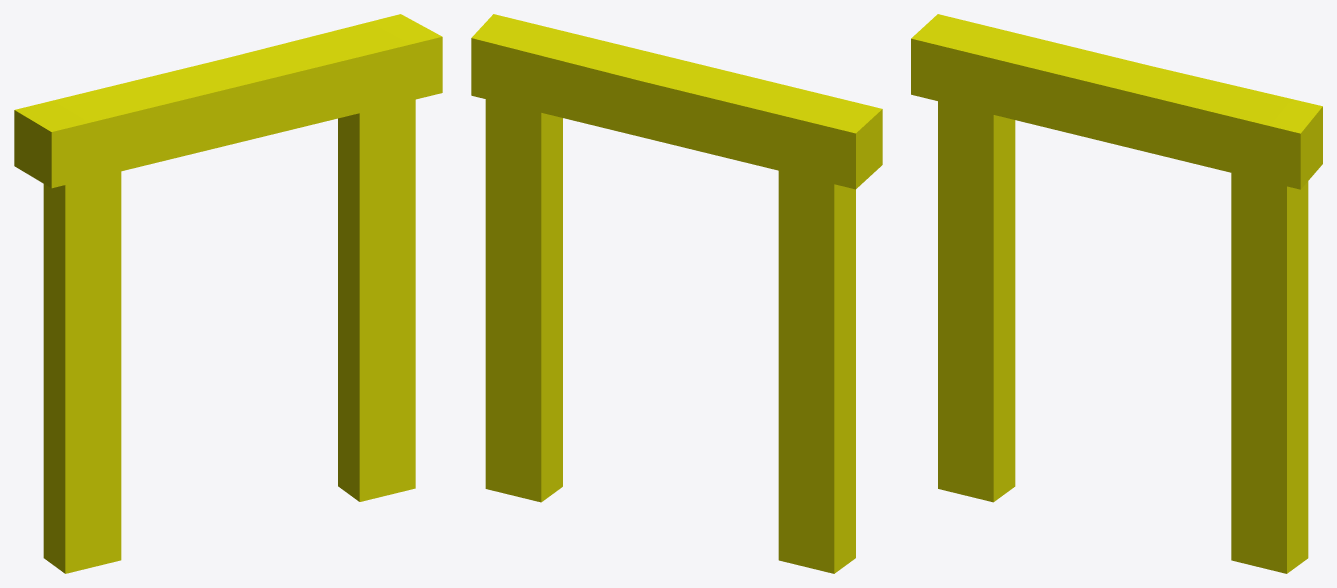
3 renders of one model, left to right at view 1: azimuth 30°, elevation 25°; view 2: azimuth 150°, elevation 25°; view 3: azimuth 330°, elevation 25°, orthographic.
Parts seen in each view (by area): view 1: khung; view 2: khung; view 3: khung.
Boxes of the visible parts, box(x1,y1,x2,y2) form: khung: box(14, 14, 442, 573); khung: box(471, 14, 882, 573); khung: box(911, 14, 1322, 573).
Size of the model in its own units: 2.34 by 2.56 by 0.3277.
1 material, 1 textured.
